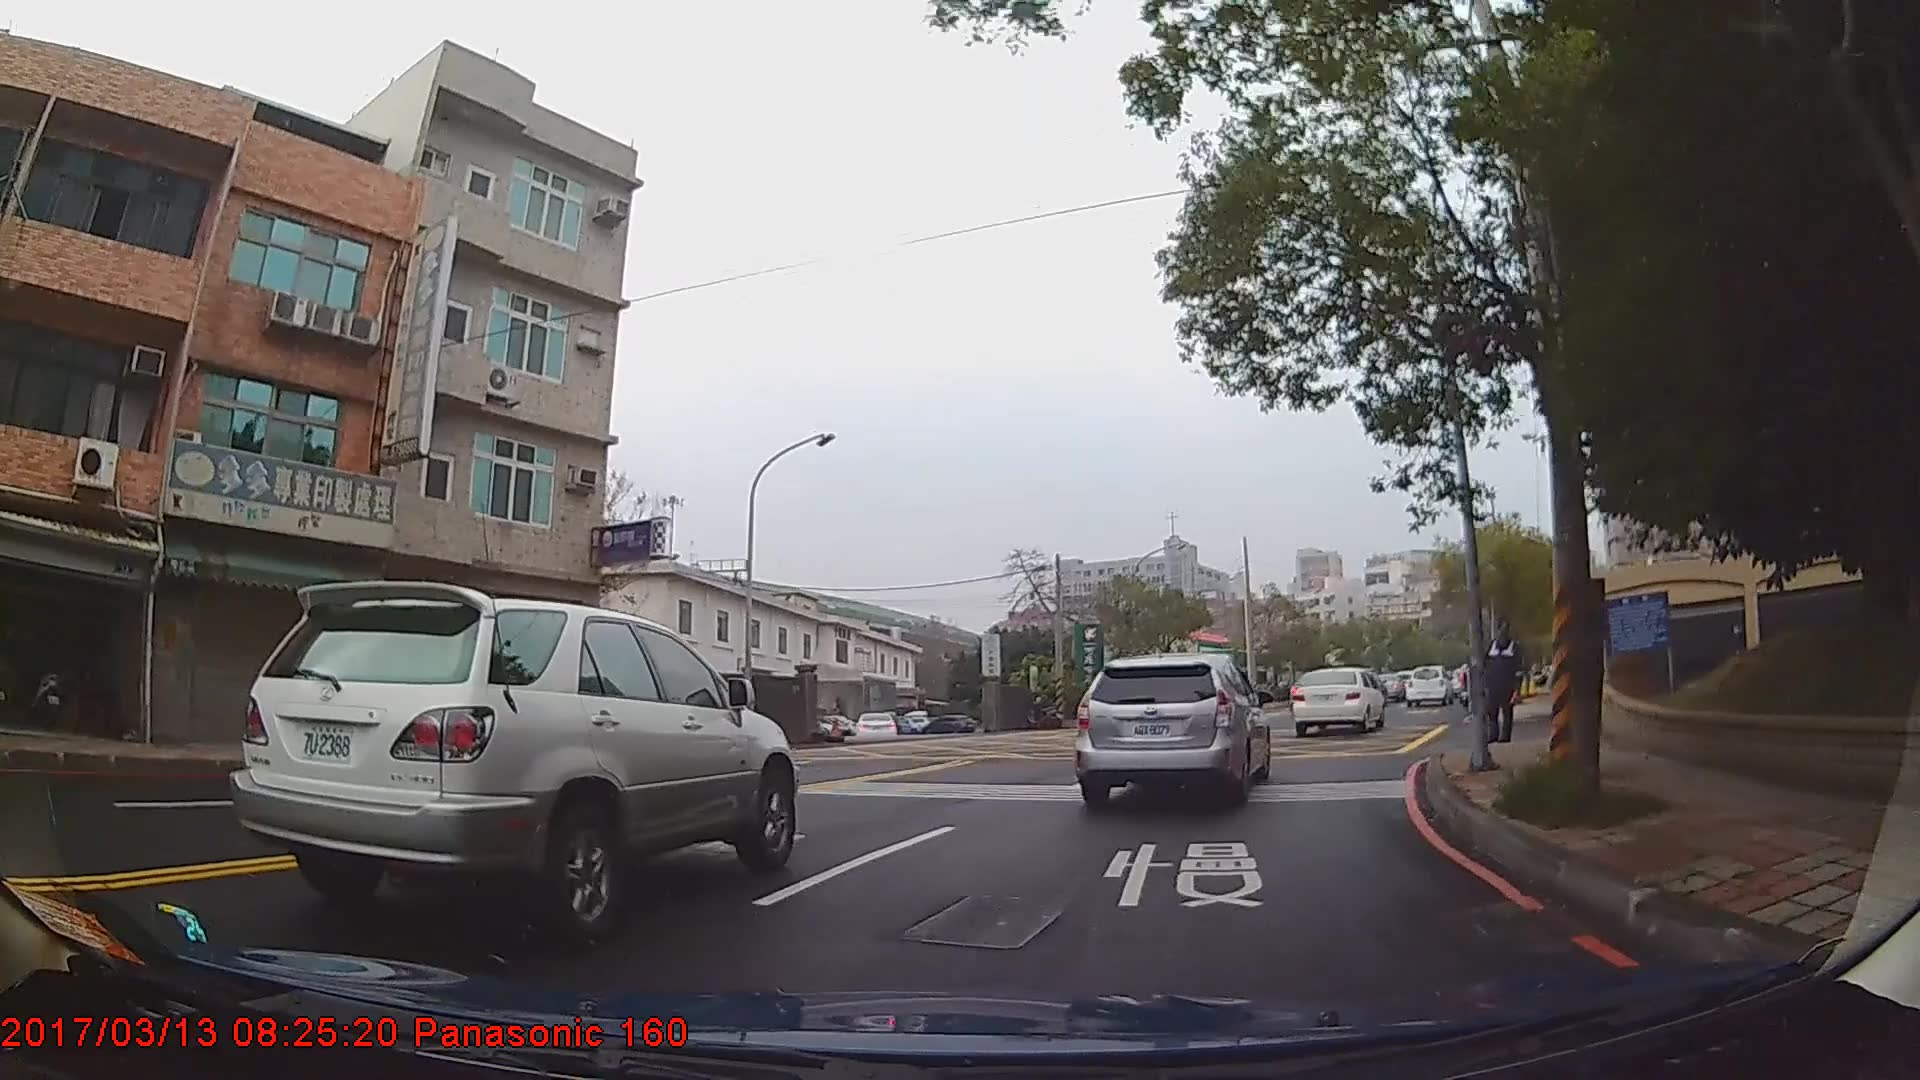pedestrian: (1484, 622, 1527, 746)
vehicle: (227, 582, 798, 941), (1070, 653, 1269, 805), (1289, 666, 1385, 736), (1403, 665, 1454, 709), (853, 712, 900, 742), (918, 714, 977, 735)
